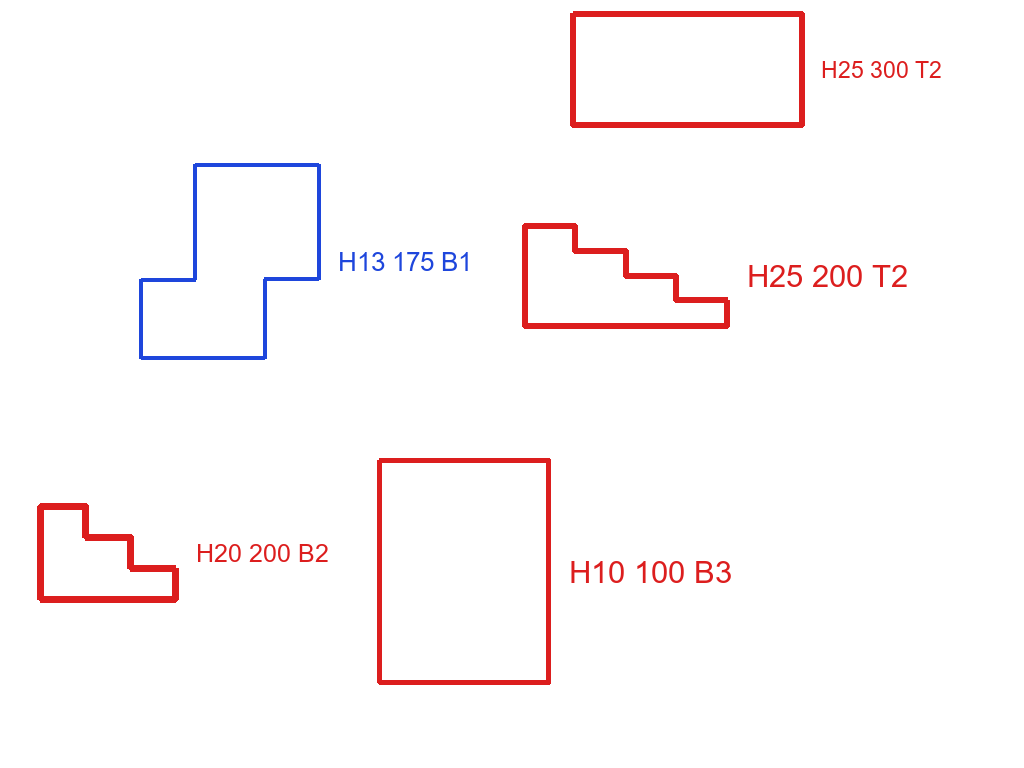shape: (375, 456, 553, 687), (138, 160, 322, 362), (568, 8, 806, 131), (520, 222, 732, 331), (35, 501, 181, 605)
text: (567, 559, 734, 585), (745, 263, 910, 289), (336, 250, 474, 273), (194, 542, 331, 564), (819, 59, 944, 80)
